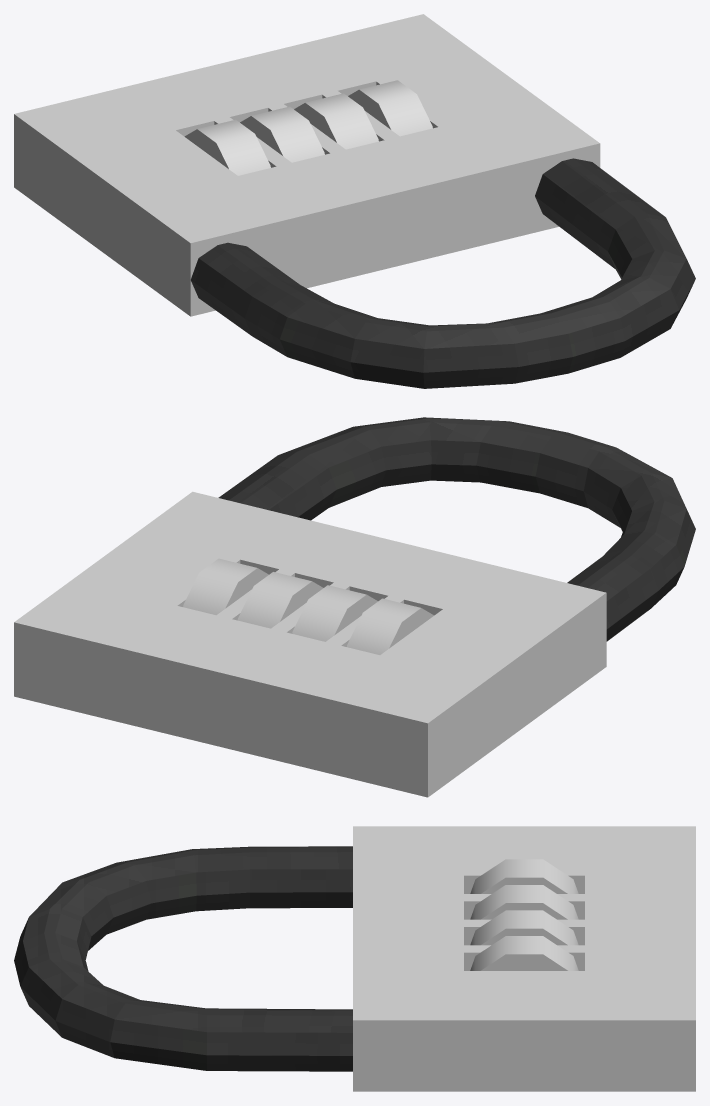
The model's file is SM_CadenaCode.fbx.
The picture shows the model from 3 angles, top to bottom: view 1: azimuth 30°, elevation 25°; view 2: azimuth 150°, elevation 25°; view 3: azimuth 270°, elevation 25°; orthographic projection. The views are drawn at different scales.
Parts seen in each view (by area): view 1: Corps cadena, Verroue, Roue 4, Roue 3, Roue 2, Roue 1; view 2: Corps cadena, Verroue, Roue 4, Roue 2, Roue 1, Roue 3; view 3: Corps cadena, Verroue, Roue 1, Roue 2, Roue 3, Roue 4.
Part boxes in pixels (x1,y1,x2,y2): Corps cadena: (14, 14, 600, 316); Verroue: (191, 158, 695, 388); Roue 4: (184, 119, 270, 175); Roue 3: (240, 106, 324, 162); Roue 2: (294, 93, 378, 149); Roue 1: (348, 80, 432, 136); Corps cadena: (14, 491, 606, 797); Verroue: (218, 417, 695, 641); Roue 4: (347, 598, 433, 654); Roue 2: (237, 572, 323, 628); Roue 1: (183, 558, 268, 615); Roue 3: (292, 585, 377, 641); Corps cadena: (353, 826, 695, 1091); Verroue: (14, 846, 352, 1071); Roue 1: (470, 936, 578, 970); Roue 2: (470, 910, 578, 945); Roue 3: (470, 885, 578, 919); Roue 4: (470, 859, 578, 893).
Size of the model in its own units: 5.31 by 1.33 by 7.89.
